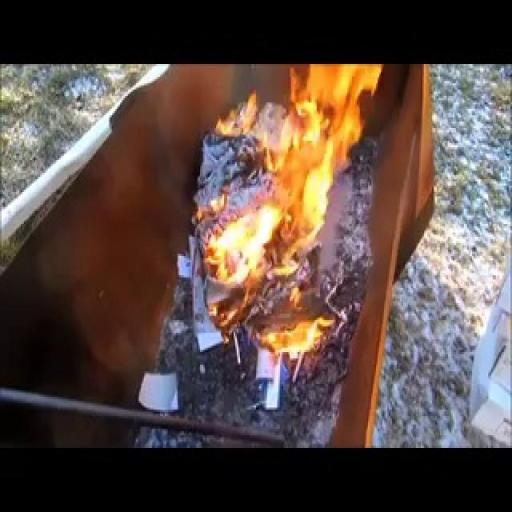smoke: (181, 64, 352, 358)
